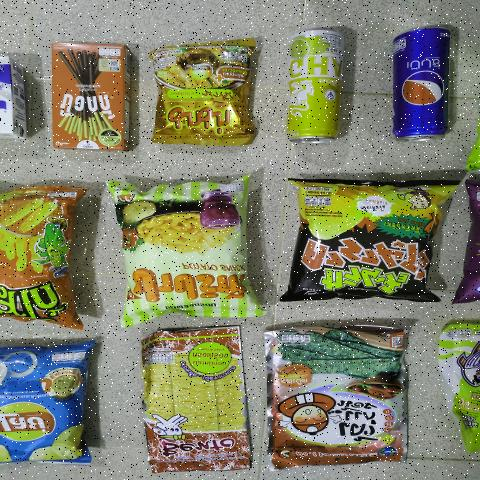bento_red: (150, 326, 242, 476)
karamujo: (296, 183, 442, 298)
lay_blue: (0, 348, 91, 460)
mama: (153, 53, 254, 141)
paprika: (123, 174, 250, 316)
pepsi_blue: (386, 27, 458, 142)
pokki: (51, 48, 129, 146)
singha_yellow: (280, 26, 349, 144)
taokaenoi: (270, 324, 404, 468)
